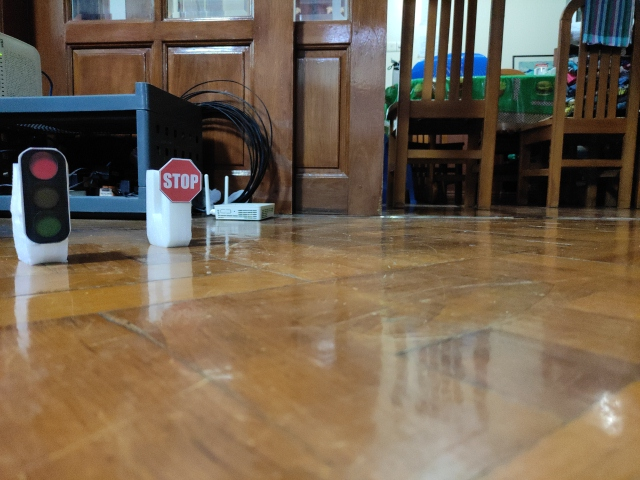Red Traffic Light: (19, 147, 71, 244)
Stop Sign: (159, 155, 203, 204)
